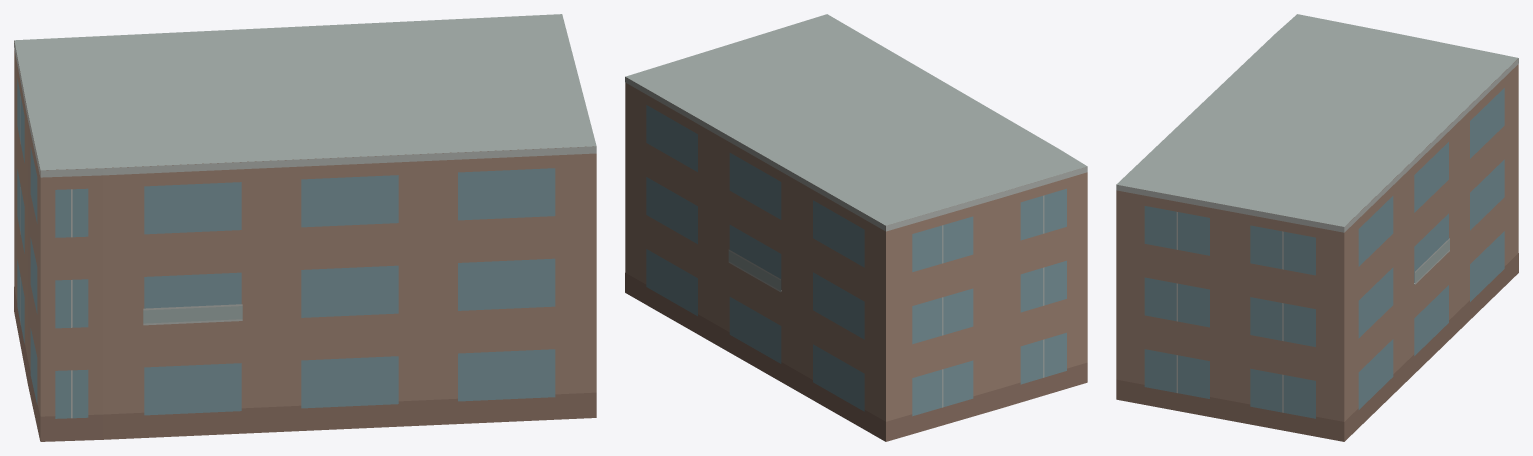
Rendered from survey-upis-32656313.glb.
The picture shows the model from 3 angles, left to right: view 1: azimuth 30°, elevation 25°; view 2: azimuth 150°, elevation 25°; view 3: azimuth 270°, elevation 25°; orthographic projection. The views are drawn at different scales.
Visible parts, largest first — view 1: survey-upis-32656313.tmp; view 2: survey-upis-32656313.tmp; view 3: survey-upis-32656313.tmp.
Part boxes in pixels (box(x1,y1,x2,y2)): survey-upis-32656313.tmp: box(14, 14, 596, 441); survey-upis-32656313.tmp: box(625, 14, 1087, 441); survey-upis-32656313.tmp: box(1116, 14, 1518, 441).
Bounding box in the file's own units: 19.45 × 9.15 × 15.54.
